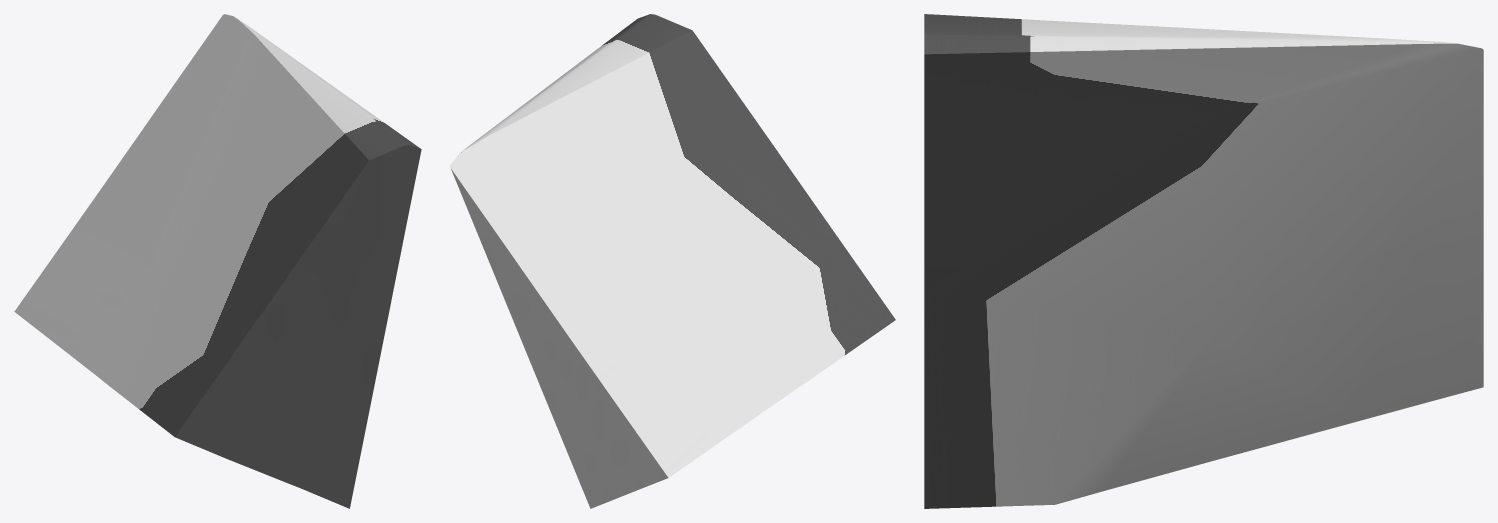
The model's file is Mirror_Eclat_48.fbx.
The picture shows the model from 3 angles, left to right: view 1: azimuth 30°, elevation 25°; view 2: azimuth 150°, elevation 25°; view 3: azimuth 270°, elevation 25°; orthographic projection. The views are drawn at different scales.
Visible parts, largest first — view 1: Mirror_Eclat_48; view 2: Mirror_Eclat_48; view 3: Mirror_Eclat_48.
Boxes of the visible parts, bbox=[...] form: Mirror_Eclat_48: bbox=[14, 14, 421, 508]; Mirror_Eclat_48: bbox=[450, 14, 895, 508]; Mirror_Eclat_48: bbox=[924, 14, 1483, 508].
Bounding box in the file's own units: 0.0397 × 0.0538 × 0.0526.
1 material, 1 textured.
